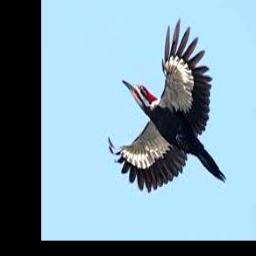Woodpecker: (108, 18, 226, 191)
